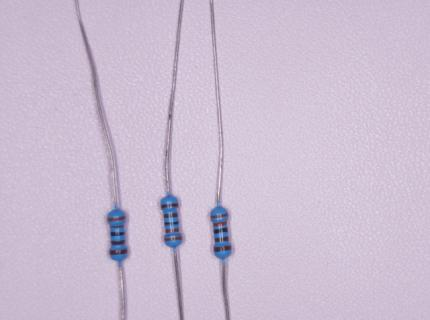Black band: (213, 227, 228, 234), (111, 231, 125, 237), (164, 221, 179, 226)
Brown band: (213, 245, 231, 253), (110, 249, 128, 256), (214, 236, 229, 243), (111, 240, 126, 246), (161, 203, 179, 208), (163, 213, 178, 218)
Orange band: (210, 213, 228, 220), (107, 216, 126, 222), (213, 221, 228, 227), (165, 236, 182, 241), (165, 228, 179, 233), (110, 225, 124, 229)
